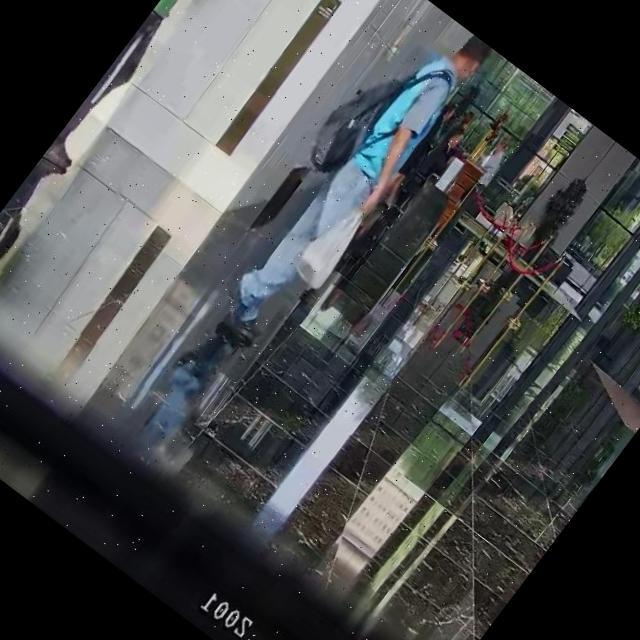person: (218, 10, 498, 347), (48, 0, 278, 164), (421, 134, 518, 254), (374, 100, 464, 210), (410, 123, 476, 198), (444, 108, 477, 145)
